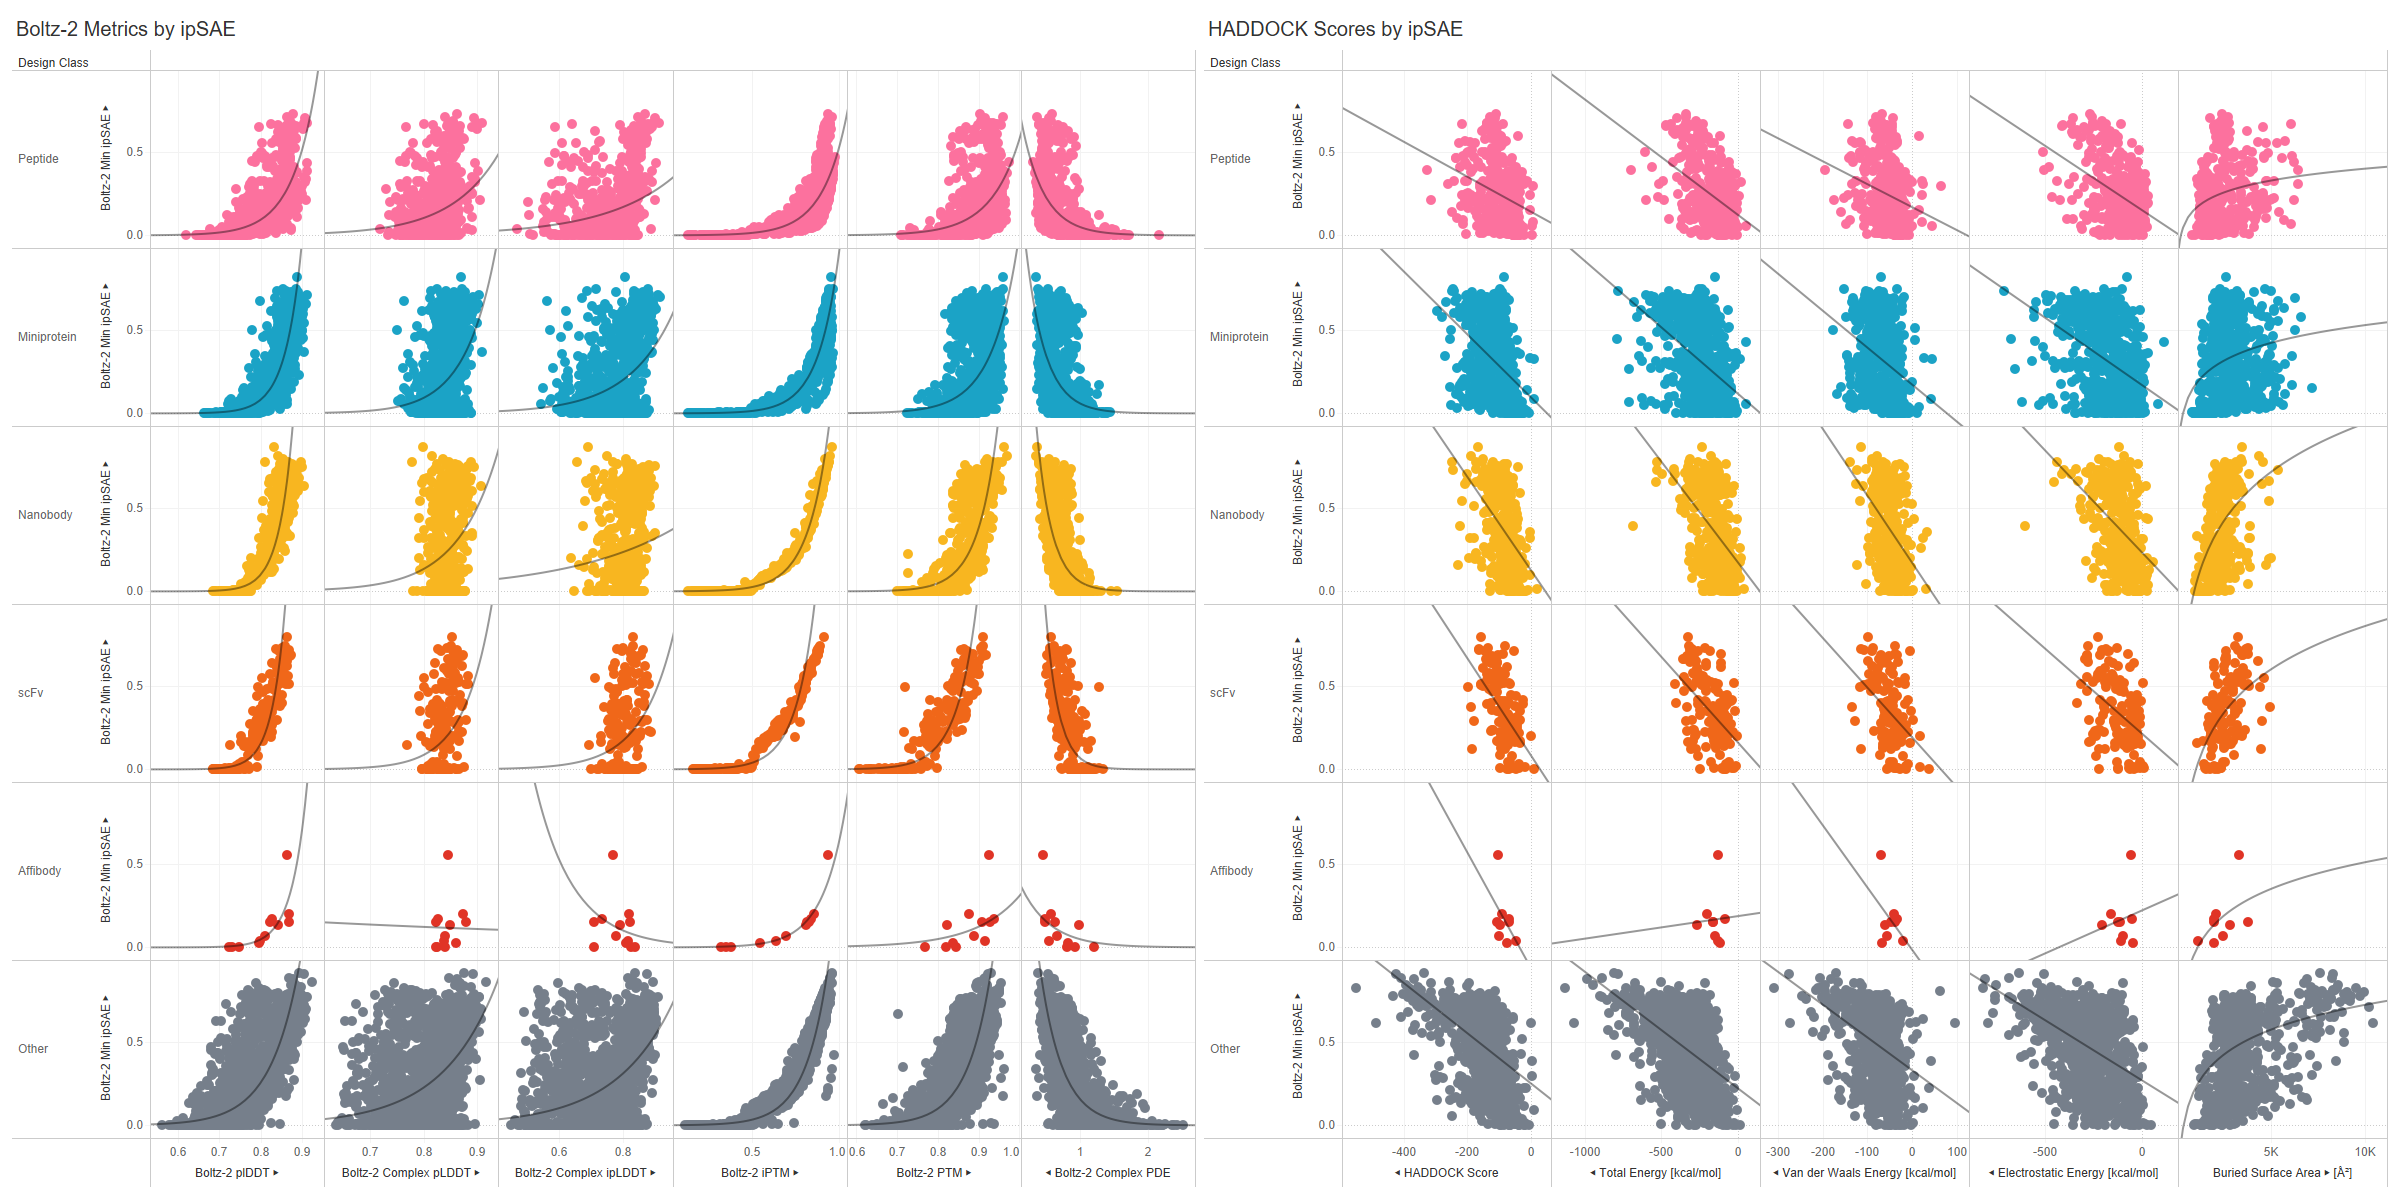

The page's visual inventory and layout, read from the dashboard file:
{"tool":"tableau","page":{"name":"Correlation Dashboard","canvas":[2400,1200],"ordinal":0},"visuals":[{"type":"worksheet","title":"Boltz-2 Metrics by ipSAE","mark":"Circle","rows":["design_class","boltz2_min_ipsae"],"cols":["boltz2_plddt","boltz2_complex_plddt","boltz2_complex_iplddt","boltz2_iptm","boltz2_ptm","boltz2_complex_pde"],"box":[8,8,1191.9,1184]},{"type":"worksheet","title":"HADDOCK Scores by ipSAE","mark":"Circle","rows":["design_class","boltz2_min_ipsae"],"cols":["score","total","vdw","elec","bsa"],"box":[1199.9,8,1192.1,1184]}]}

Visuals, with their boxes in screenshot pixels (x1, y1, x2, y2), scaled from the page's 2400x1200 canvas onto the 2400x1200 screenshot:
"Boltz-2 Metrics by ipSAE" worksheet (Circle marks): pyautogui.locateOnScreen(8, 8, 1200, 1192)
"HADDOCK Scores by ipSAE" worksheet (Circle marks): pyautogui.locateOnScreen(1200, 8, 2392, 1192)
